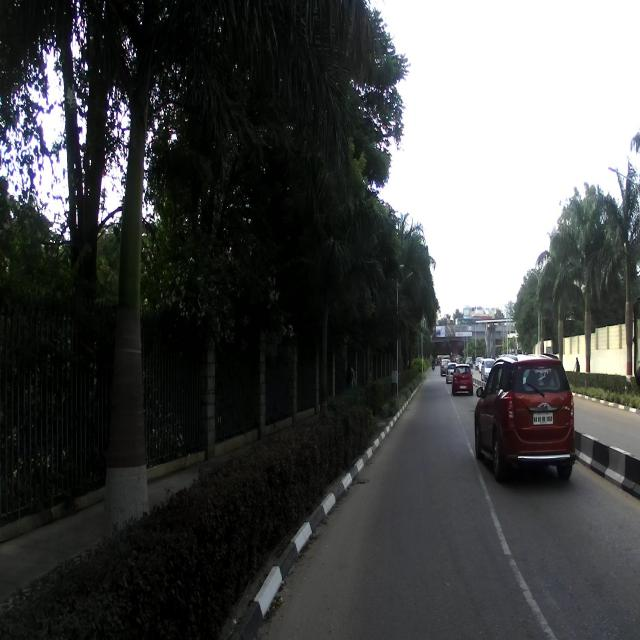car: (474, 351, 577, 484)
